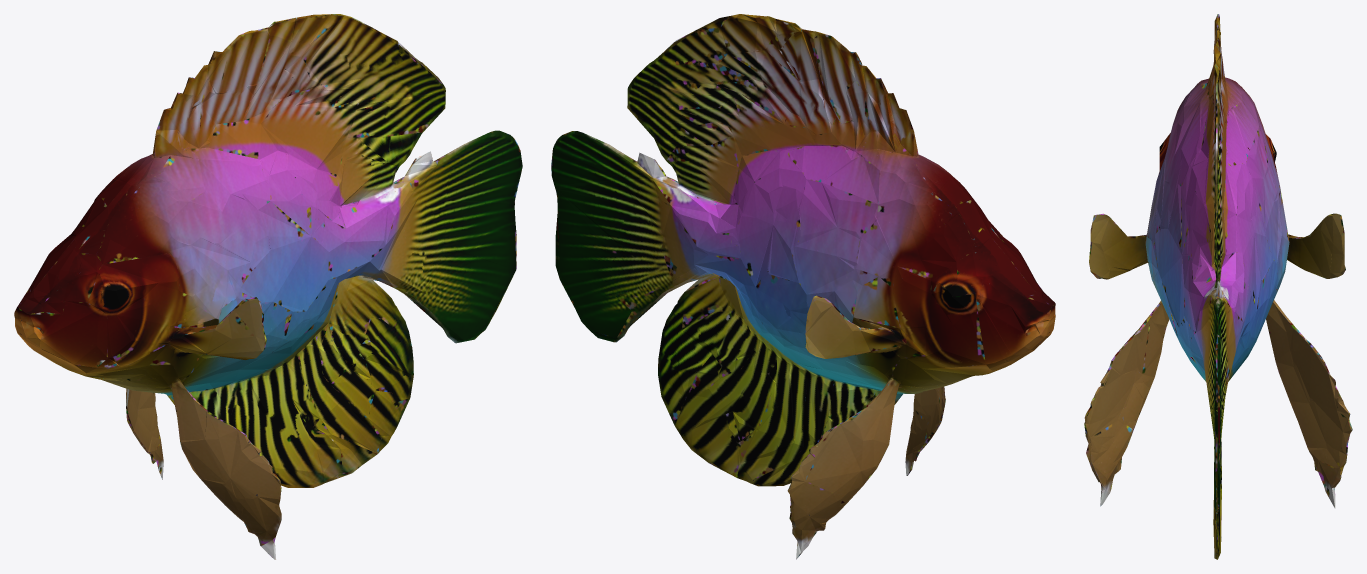
Rendered from fish_0071_smpl23_resized.glb.
3 views of the same model, side by side, from view 1: azimuth 30°, elevation 25°; view 2: azimuth 150°, elevation 25°; view 3: azimuth 270°, elevation 25° (orthographic). The views are drawn at different scales.
Visible parts, largest first — view 1: world; view 2: world; view 3: world.
Boxes of the visible parts, x1,y1,x2,y2 form: world: [14, 14, 522, 559]; world: [551, 14, 1055, 559]; world: [1084, 14, 1352, 559].
Size of the model in its own units: 1.99 by 1.83 by 0.8762.
Materials: 1 (1 with a texture image).
